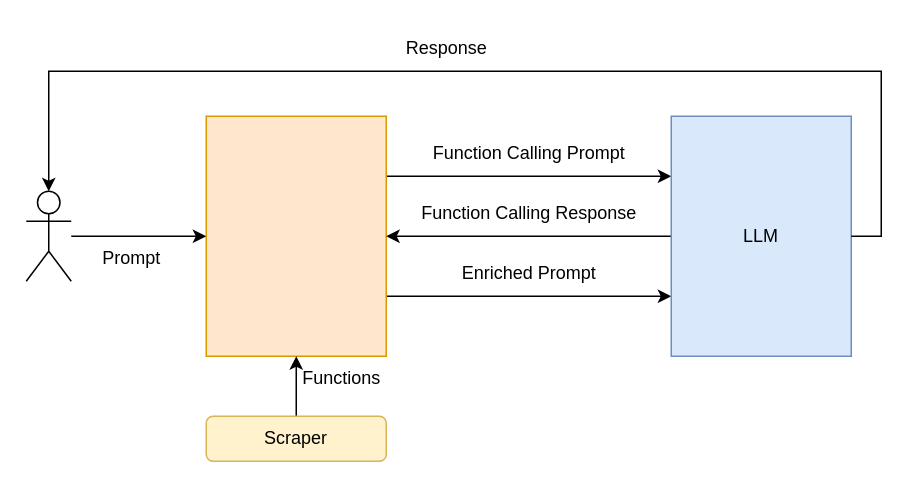
This 920x488 diagram has some shape labels left out. Each missing label, with the centre of its shape:
"RAG System" belongs at point 295,235.
"User" belongs at point 48,235.
